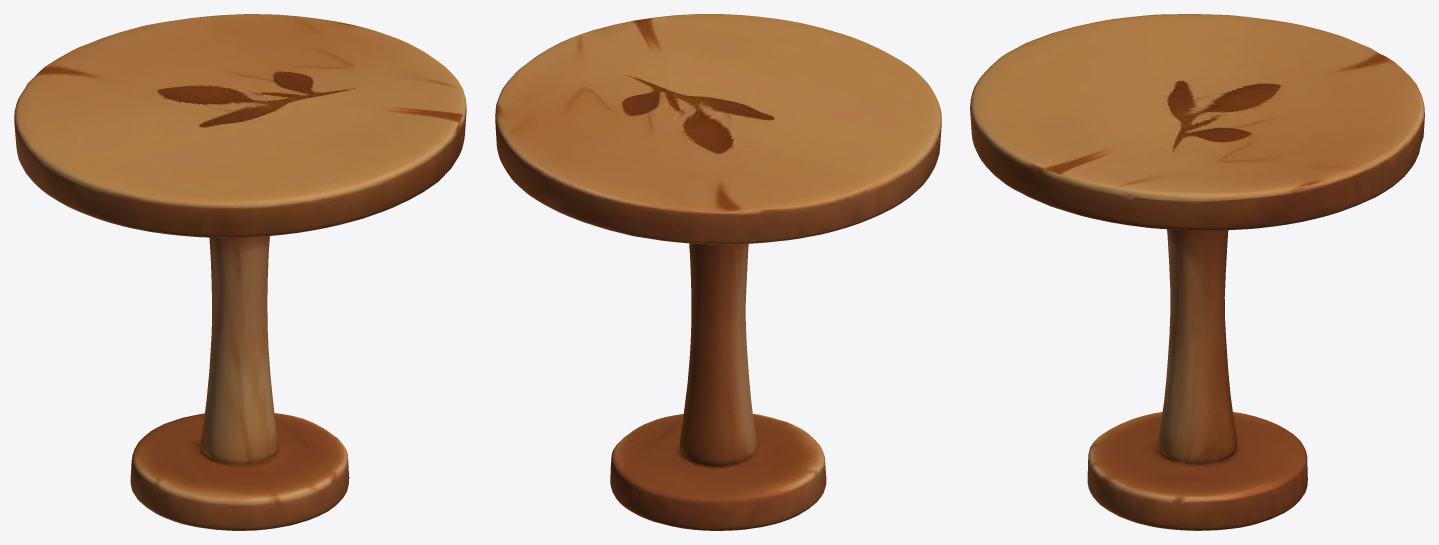
File: beistelltisch_wald_a.glb
3 views of the same model, side by side, from view 1: azimuth 30°, elevation 25°; view 2: azimuth 150°, elevation 25°; view 3: azimuth 270°, elevation 25° (orthographic). The views are drawn at different scales.
Parts seen in each view (by area): view 1: tripo_node_e5d8c6b3-d947-475b-858b-314085078796; view 2: tripo_node_e5d8c6b3-d947-475b-858b-314085078796; view 3: tripo_node_e5d8c6b3-d947-475b-858b-314085078796.
Boxes of the visible parts, box(x1,y1,x2,y2) form: tripo_node_e5d8c6b3-d947-475b-858b-314085078796: box(14, 14, 466, 530); tripo_node_e5d8c6b3-d947-475b-858b-314085078796: box(495, 14, 941, 530); tripo_node_e5d8c6b3-d947-475b-858b-314085078796: box(970, 14, 1424, 530).
Size of the model in its own units: 0.7948 by 0.75 by 0.7943.
Materials: 1 (1 with a texture image).
